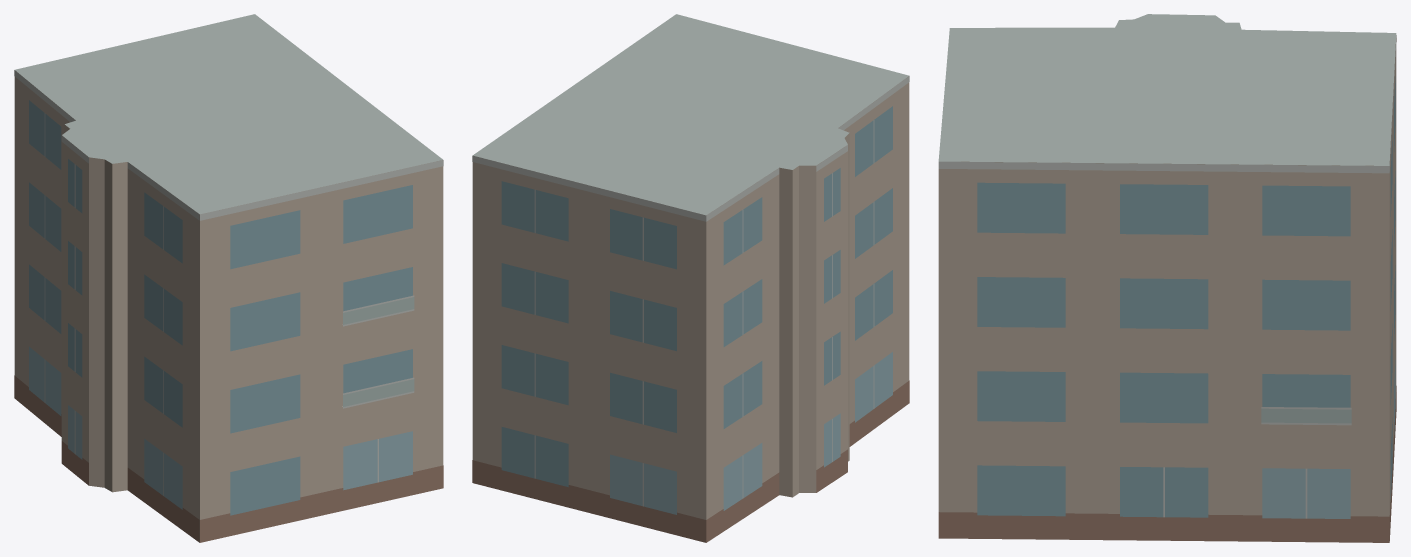
File: survey-upis-32983477.glb
3 renders of one model, left to right at view 1: azimuth 30°, elevation 25°; view 2: azimuth 150°, elevation 25°; view 3: azimuth 270°, elevation 25°, orthographic. The views are drawn at different scales.
Visible parts, largest first — view 1: survey-upis-32983477.tmp; view 2: survey-upis-32983477.tmp; view 3: survey-upis-32983477.tmp.
Boxes of the visible parts, x1,y1,x2,y2 form: survey-upis-32983477.tmp: (14,14,443,542); survey-upis-32983477.tmp: (472,14,909,542); survey-upis-32983477.tmp: (938,14,1396,542).
Size of the model in its own units: 10.78 by 12.45 by 13.72.
